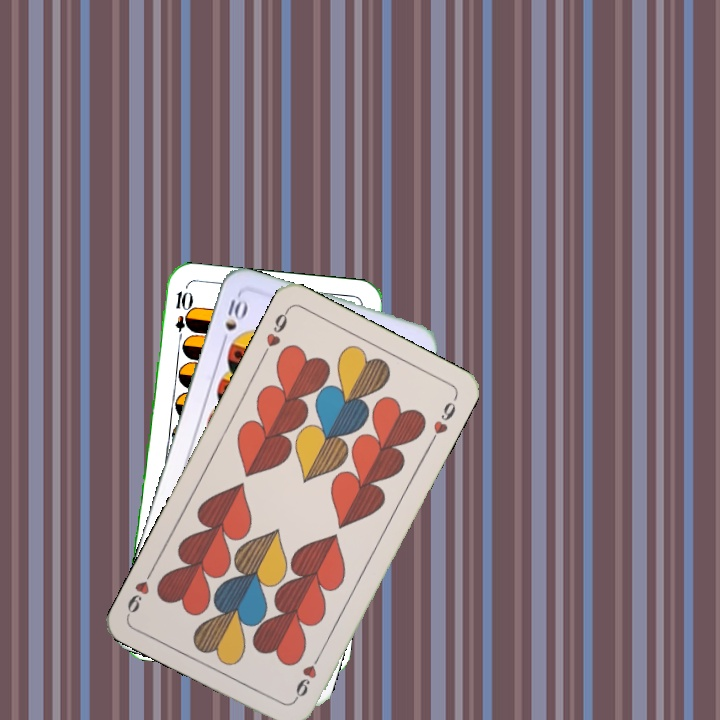E10: (171, 287, 190, 346)
H9: (289, 649, 324, 704), (258, 305, 292, 360)
S10: (217, 295, 249, 349)
